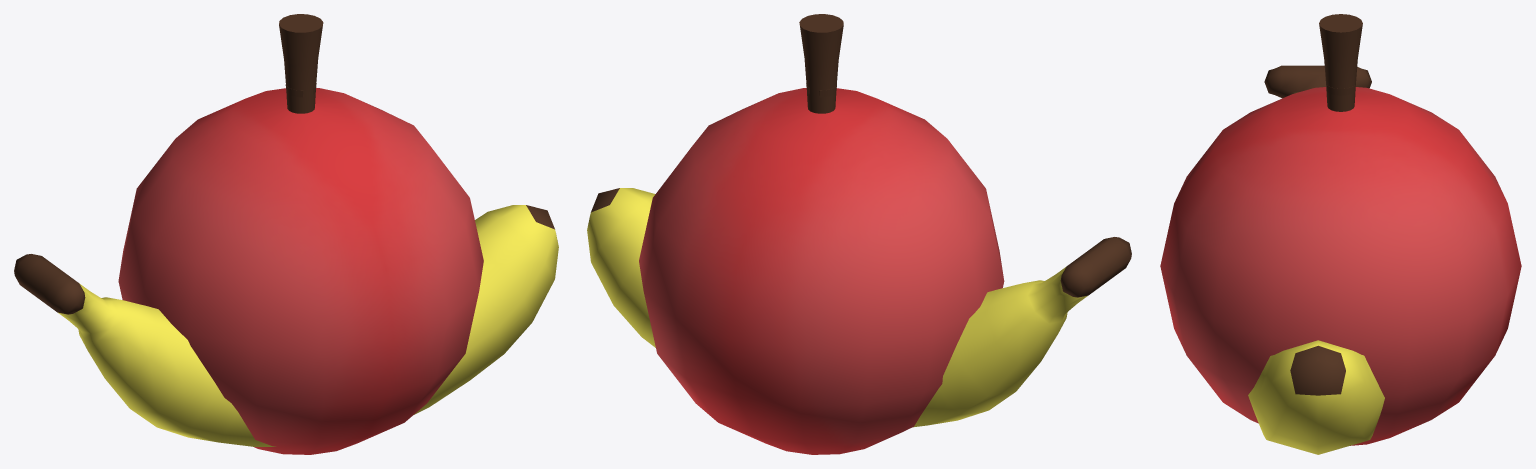
File: fruits.fbx
3 views of the same model, side by side, from view 1: azimuth 30°, elevation 25°; view 2: azimuth 150°, elevation 25°; view 3: azimuth 270°, elevation 25° (orthographic). The views are drawn at different scales.
Parts seen in each view (by area): view 1: apple, banana; view 2: apple, banana; view 3: apple, banana.
Boxes of the visible parts, <box> form: apple: <box>118,14,483,454</box>; banana: <box>14,205,558,446</box>; apple: <box>639,14,1004,454</box>; banana: <box>587,188,1131,427</box>; apple: <box>1160,14,1521,445</box>; banana: <box>1248,65,1384,454</box>.
Bounding box in the file's own units: 12.26 × 9.03 × 7.48.
1 material, 1 textured.
